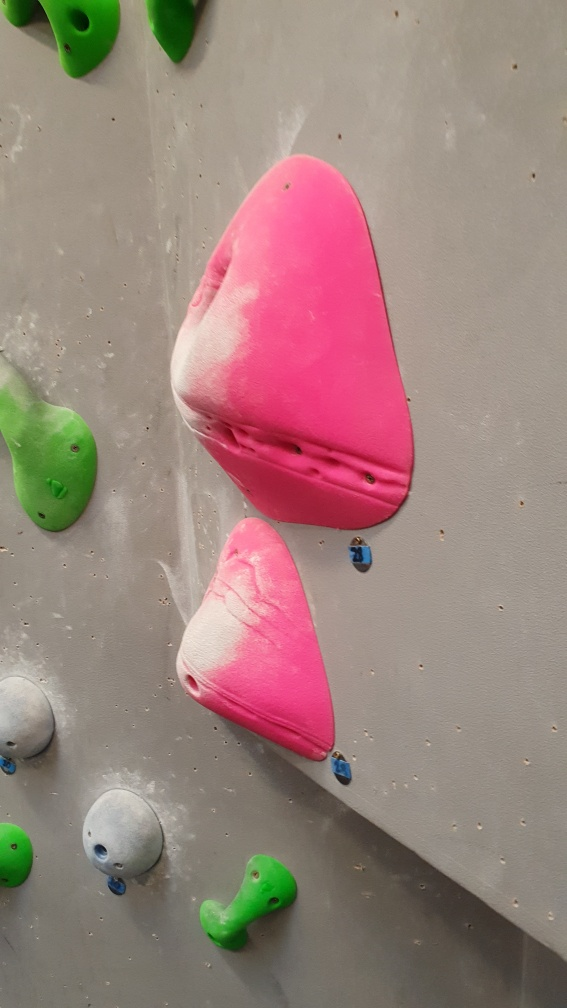Hand Start: (340, 530, 376, 579), (329, 741, 356, 786), (103, 873, 133, 899), (1, 758, 24, 777)
Pocket: (174, 144, 425, 527)
Sloper: (78, 788, 166, 876), (1, 677, 59, 761)
